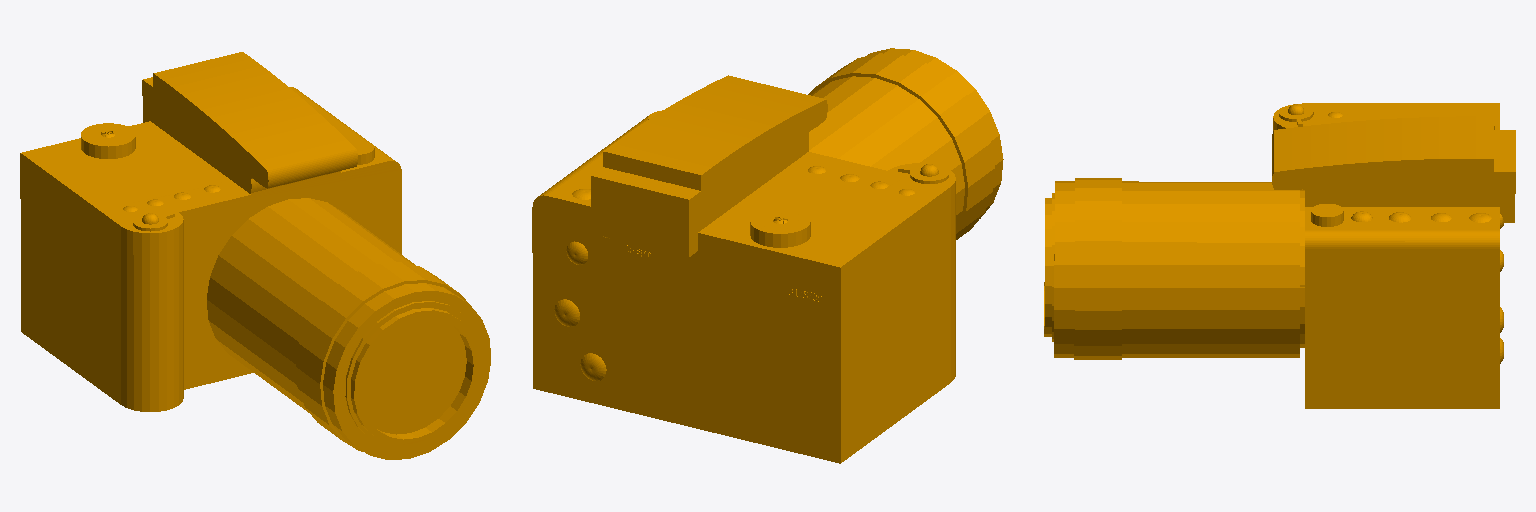
URDF robot description (mustard_camera):
<?xml version="1.0" ?>
<robot name="mustard_camera">

  <link name="base_link">
    <visual>
      <geometry>
        <mesh filename="x_unit_camera_101352.obj" scale="1 1 1"/>
      </geometry>
    </visual>

    <collision>
      <geometry>
        <mesh filename="x_unit_camera_101352.obj" scale="1 1 1"/>
      </geometry>
    </collision>

    <inertial>
      <mass value="1.0"/>
      <origin xyz="0 0 -0.05" rpy="0 0 0"/>
      <inertia
        ixx="0.01" ixy="0.0" ixz="0.0"
        iyy="0.01" iyz="0.0"
        izz="0.01"/>
    </inertial>
  </link>

</robot>

--- What the picture shows (computed from the rendered views, not written in the file) ---
The picture shows the robot from 3 angles, left to right: view 1: azimuth 30°, elevation 25°; view 2: azimuth 150°, elevation 25°; view 3: azimuth 270°, elevation 25°; orthographic projection.
Model mustard_camera with 1 links and 0 joints (none), rooted at base_link, posed every joint at zero.
Visible links, largest first — view 1: base_link; view 2: base_link; view 3: base_link.
Boxes of the visible links, bbox=[...] form: base_link: bbox=[20, 52, 490, 459]; base_link: bbox=[532, 48, 1003, 463]; base_link: bbox=[1044, 103, 1515, 408].
Size in the robot's own frame: 0.1149 by 0.1728 by 0.0895 metres.
Meshes: 1 distinct files referenced, 1 mesh visuals loaded (1 OBJ).